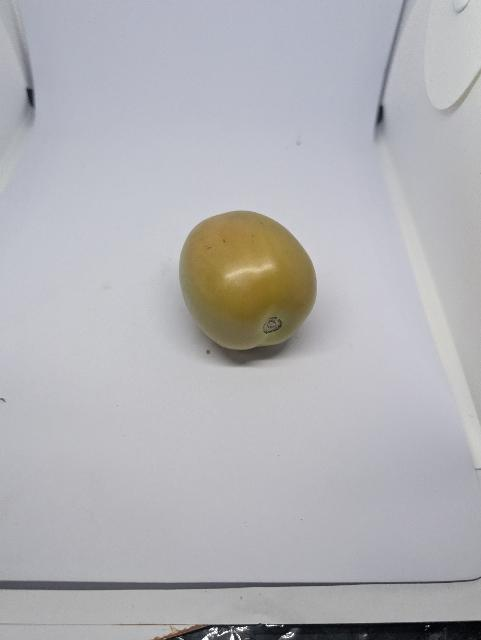breaker: (177, 201, 340, 355)
